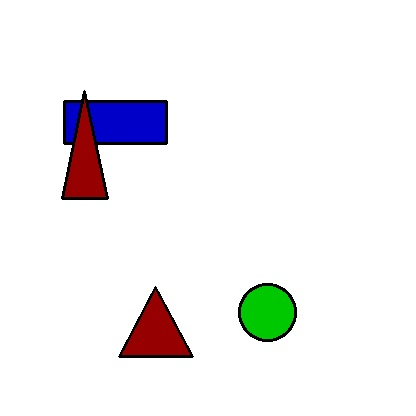circle: (208, 284, 327, 340)
rectangle: (64, 101, 166, 143)
triangle: (119, 287, 192, 356), (62, 91, 107, 198)
